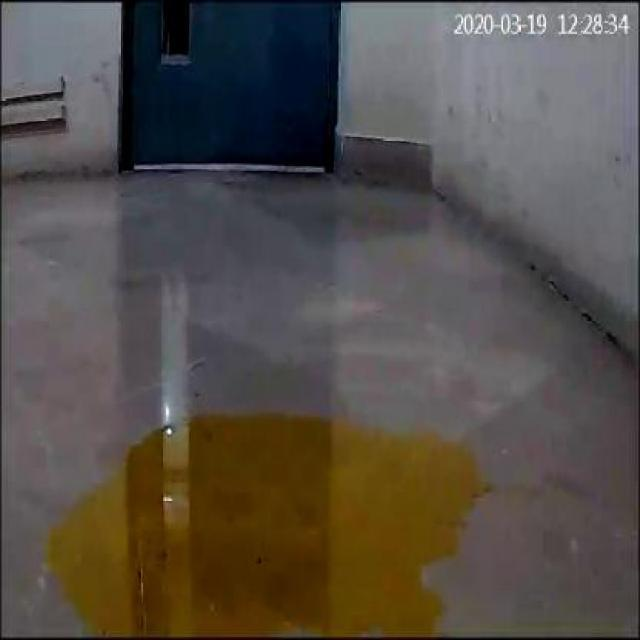spill: (34, 406, 478, 637)
